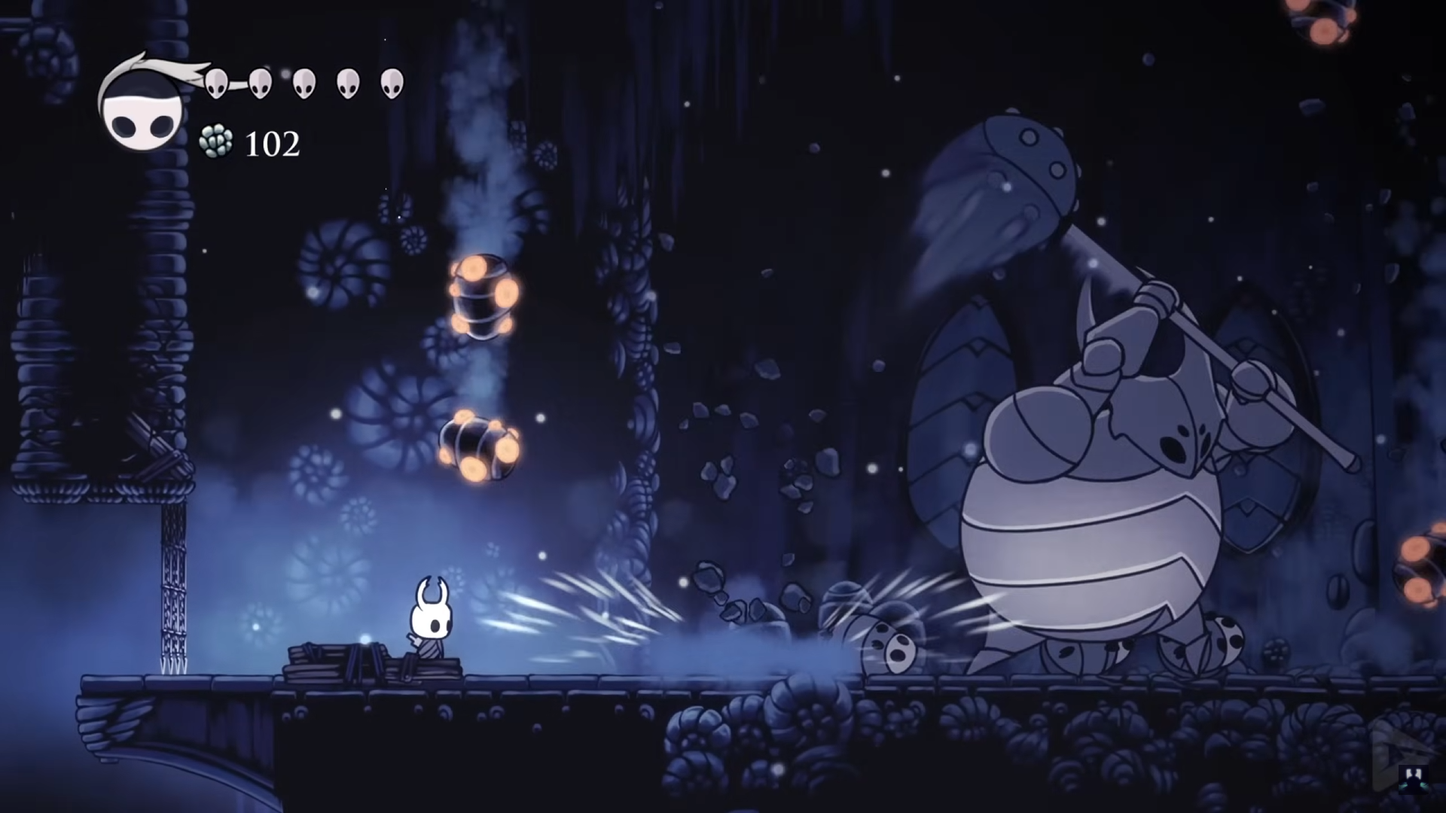HK: (403, 575, 454, 679)
